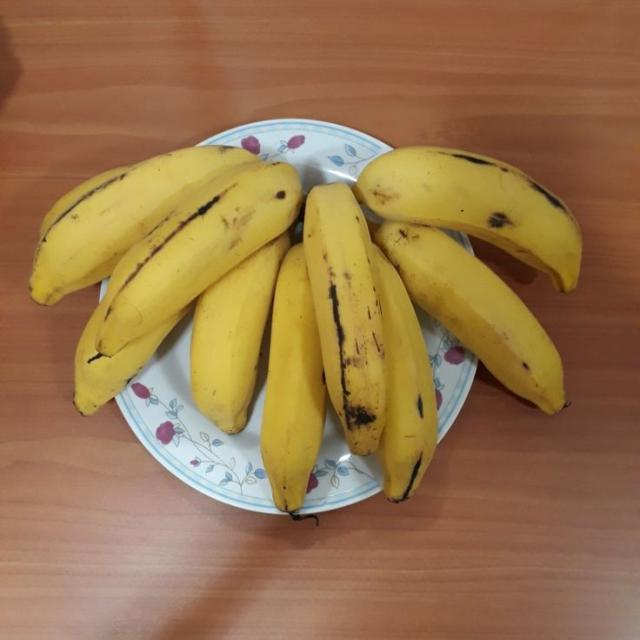unpeal banana: (97, 163, 300, 355), (30, 146, 259, 305), (375, 222, 565, 413), (354, 147, 581, 291), (304, 183, 385, 455), (191, 232, 290, 433), (261, 245, 326, 512), (374, 248, 438, 502), (74, 304, 186, 415), (39, 166, 132, 238)
